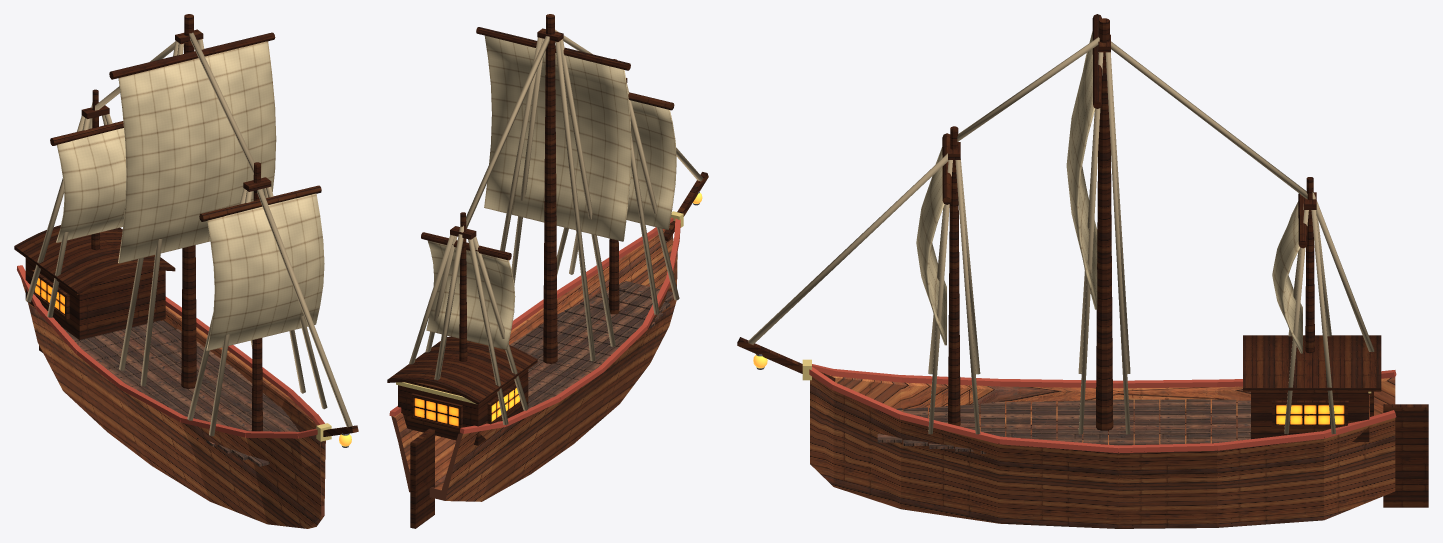
Rendered from ship_sengokubune.glb.
3 renders of one model, left to right at view 1: azimuth 30°, elevation 25°; view 2: azimuth 150°, elevation 25°; view 3: azimuth 270°, elevation 25°, orthographic. The views are drawn at different scales.
Visible parts, largest first — view 1: ship_sail_canvas, ship_cedar, ship_charred, ship_harbor_planks, ship_hemp_rope, ship_vermilion, ship_shoji_glow; view 2: ship_sail_canvas, ship_charred, ship_cedar, ship_hemp_rope, ship_harbor_planks, ship_vermilion, ship_shoji_glow, ship_gold_trim; view 3: ship_cedar, ship_charred, ship_hemp_rope, ship_harbor_planks, ship_sail_canvas, ship_vermilion, ship_shoji_glow.
Part boxes in pixels (x1,y1,x2,y2): ship_sail_canvas: (56, 41, 324, 350); ship_cedar: (21, 280, 325, 528); ship_charred: (14, 14, 358, 436); ship_harbor_planks: (62, 320, 299, 466); ship_hemp_rope: (25, 32, 352, 436); ship_vermilion: (17, 265, 324, 438); ship_shoji_glow: (34, 278, 64, 314); ship_sail_canvas: (426, 35, 676, 349); ship_charred: (387, 14, 708, 528); ship_cedar: (391, 229, 677, 501); ship_hemp_rope: (409, 29, 702, 424); ship_harbor_planks: (509, 281, 673, 408); ship_vermilion: (389, 217, 680, 433); ship_shoji_glow: (414, 388, 520, 426); ship_gold_trim: (396, 211, 683, 404); ship_cedar: (810, 375, 1395, 528); ship_charred: (737, 14, 1428, 507); ship_hemp_rope: (748, 37, 1374, 434); ship_harbor_planks: (877, 399, 1250, 453); ship_sail_canvas: (916, 31, 1302, 353); ship_vermilion: (809, 364, 1396, 453); ship_shoji_glow: (1275, 405, 1344, 425).
Size of the model in its own units: 5.2 by 13.72 by 17.49.
Materials: 10 (5 with a texture image).
